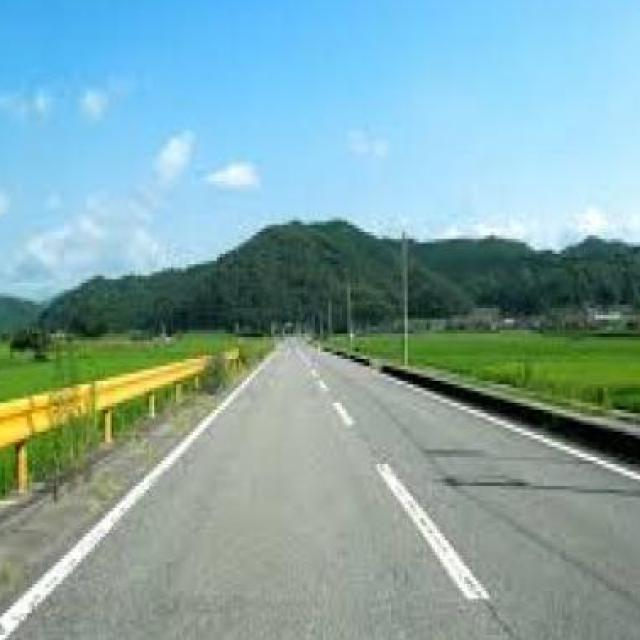Guard rail: (0, 337, 234, 530)
